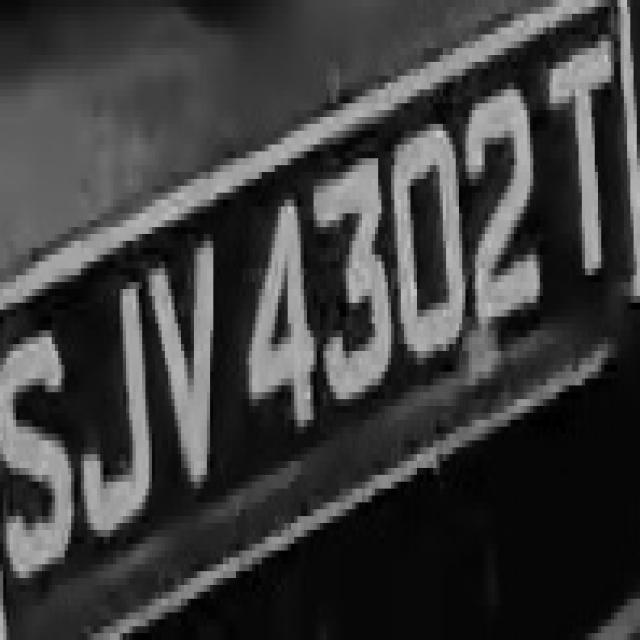0: (381, 117, 469, 378)
2: (452, 69, 540, 365)
3: (307, 151, 394, 420)
4: (233, 193, 326, 454)
J: (77, 255, 152, 558)
S: (0, 310, 84, 606)
T: (536, 41, 634, 303)
V: (142, 234, 226, 523)
